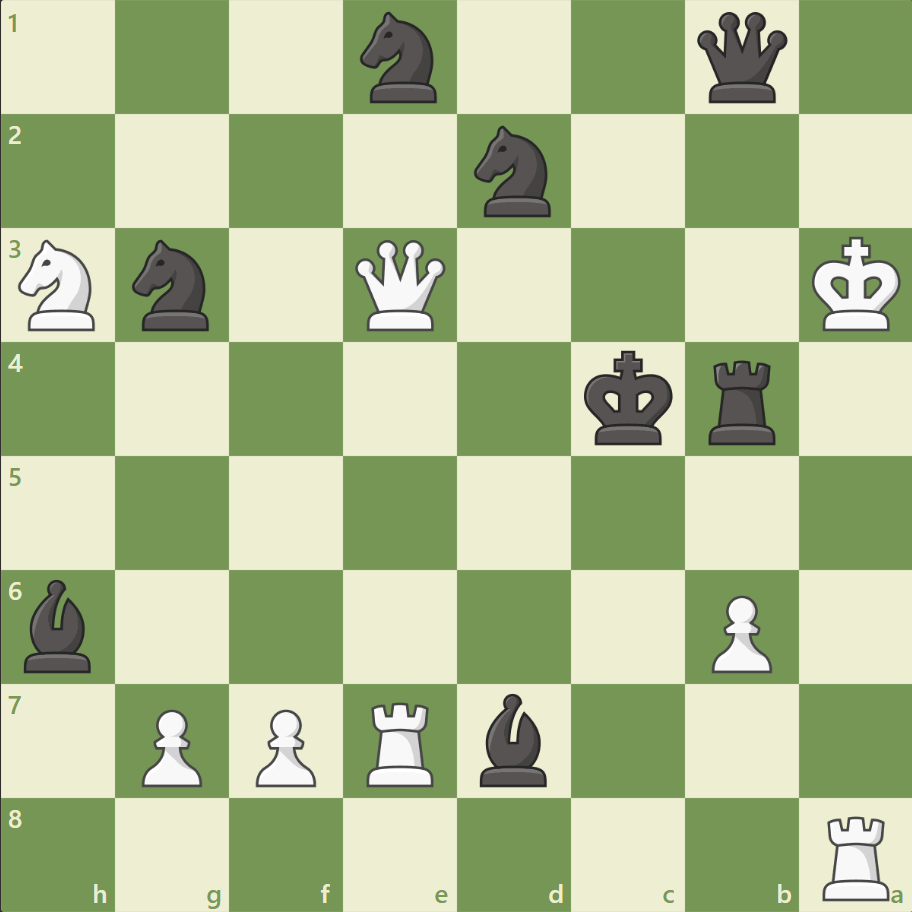K: (806, 231, 906, 339)
N: (11, 234, 108, 337)
P: (247, 700, 322, 791), (133, 700, 208, 791), (701, 586, 776, 677)
Q: (351, 236, 450, 335)
R: (814, 806, 897, 904), (360, 693, 442, 790)
b: (471, 687, 555, 790), (17, 574, 101, 676)
k: (579, 344, 679, 452)
n: (124, 234, 222, 337), (351, 7, 449, 110), (465, 121, 562, 223)
q: (691, 9, 790, 108)
r: (700, 352, 783, 449)
